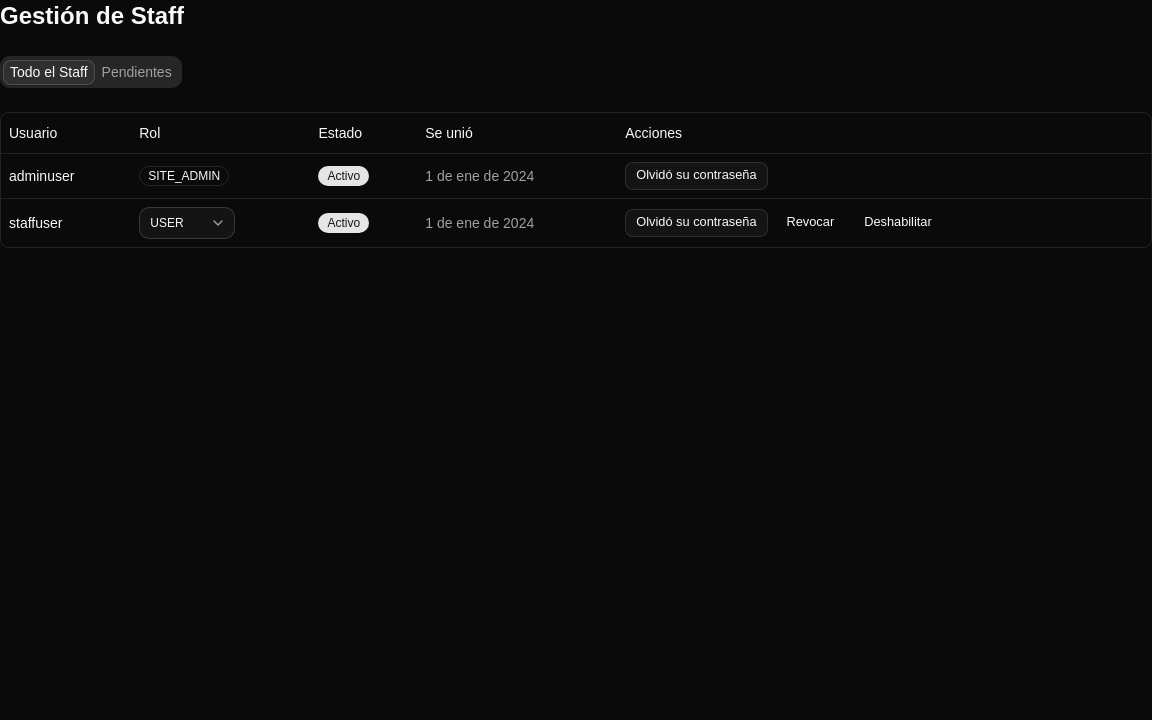
Scenario: RecoveryCodeDialog (via StaffPage) › clicking the button opens the confirmation dialog for that user
The image size is (1152, 720).
Click the button "Olvidó su contraseña" in the row of "adminuser" at (696, 176), box [625,162,768,190]
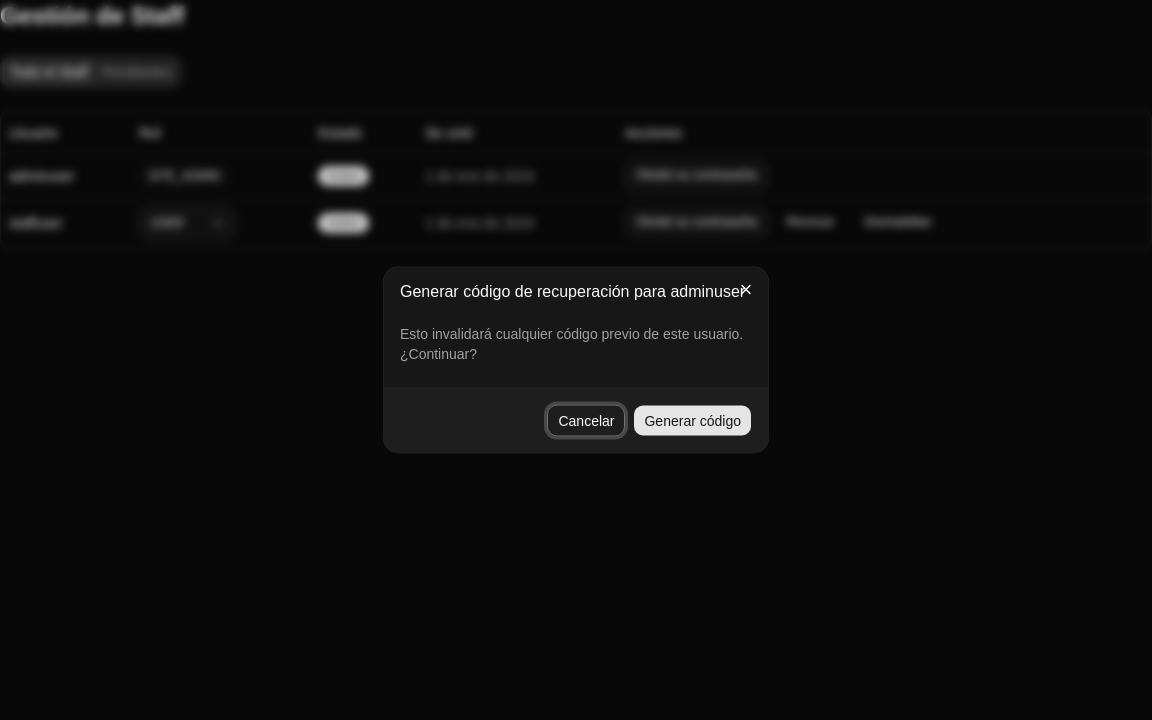
Check: the heading "Generar código de recuperación para adminuser" is shown, box [400,284,752,300]
